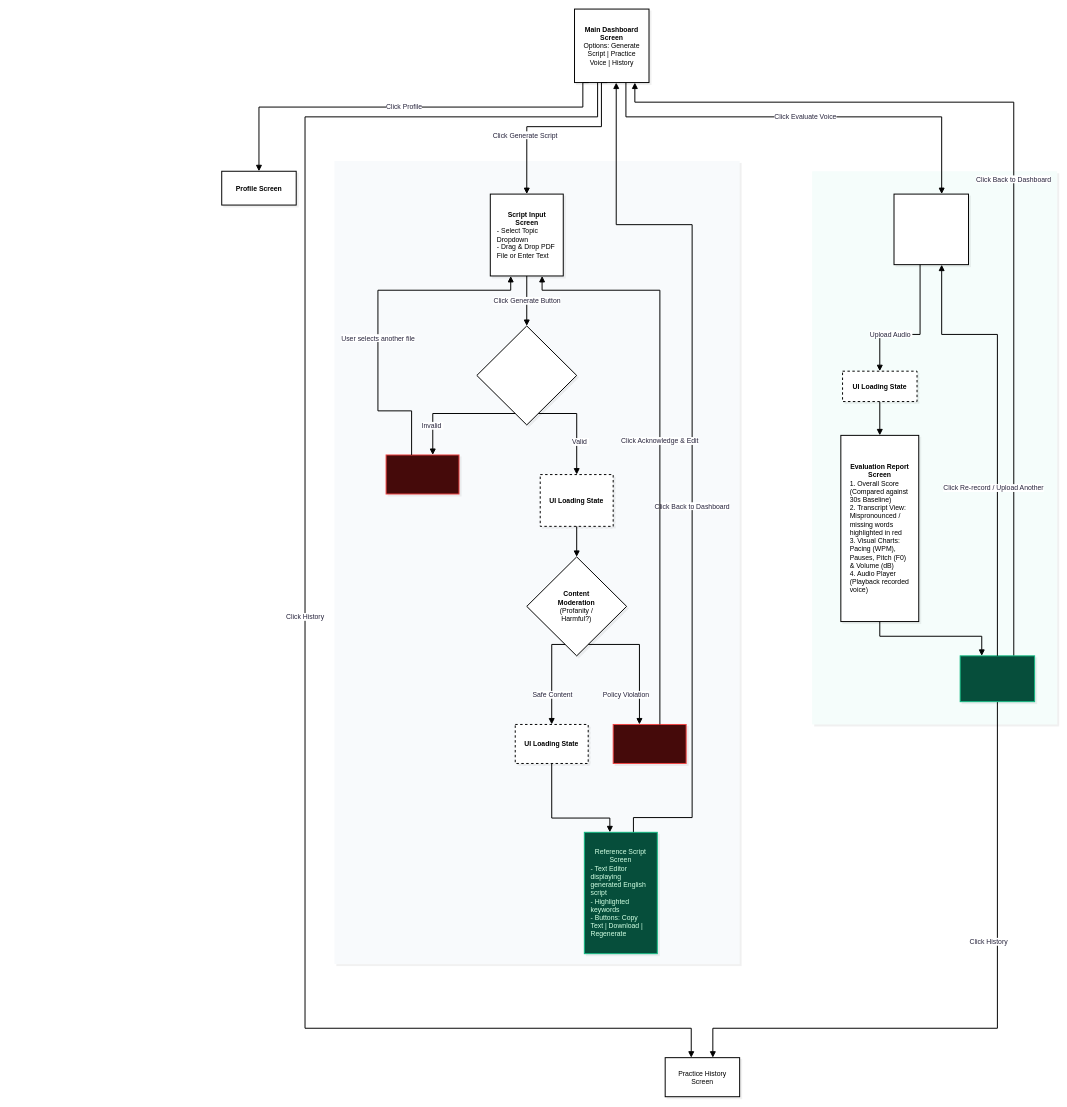
Some shapes in this 1067 by 1107 pixel diagram are drawn without their labels. The shapes that lost their labels are listed below. From the top down, each one's centre as x and y in pixels, then its label:
At point (932, 230): "Voice Studio Screen - Direct Mic Recording OR Upload Audio File".
At point (527, 376): "File Validation (UI Sanity Gate)".
At point (423, 475): "UI Error State".
At point (998, 679): "UI Toast Notification".
At point (650, 745): "UI Safety Alert Modal".
